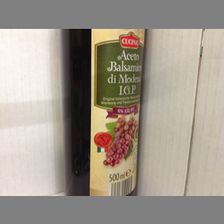vinegar: (69, 28, 144, 197)
